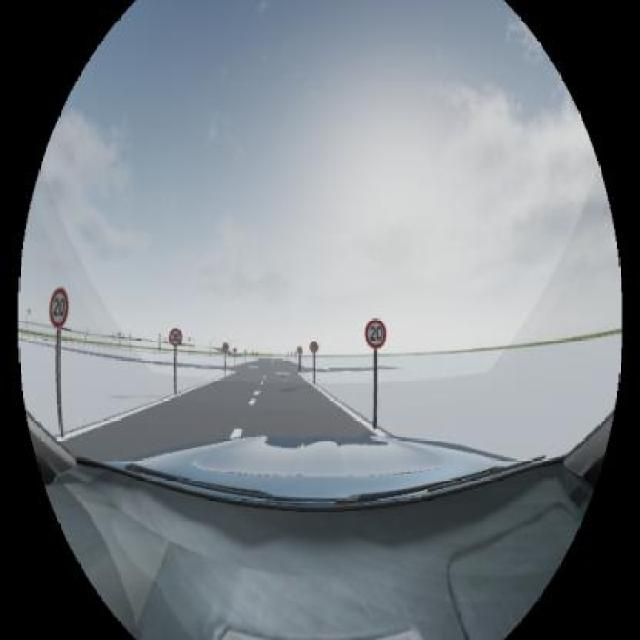forb_speed_over_20: (50, 288, 68, 326), (365, 317, 386, 349)
